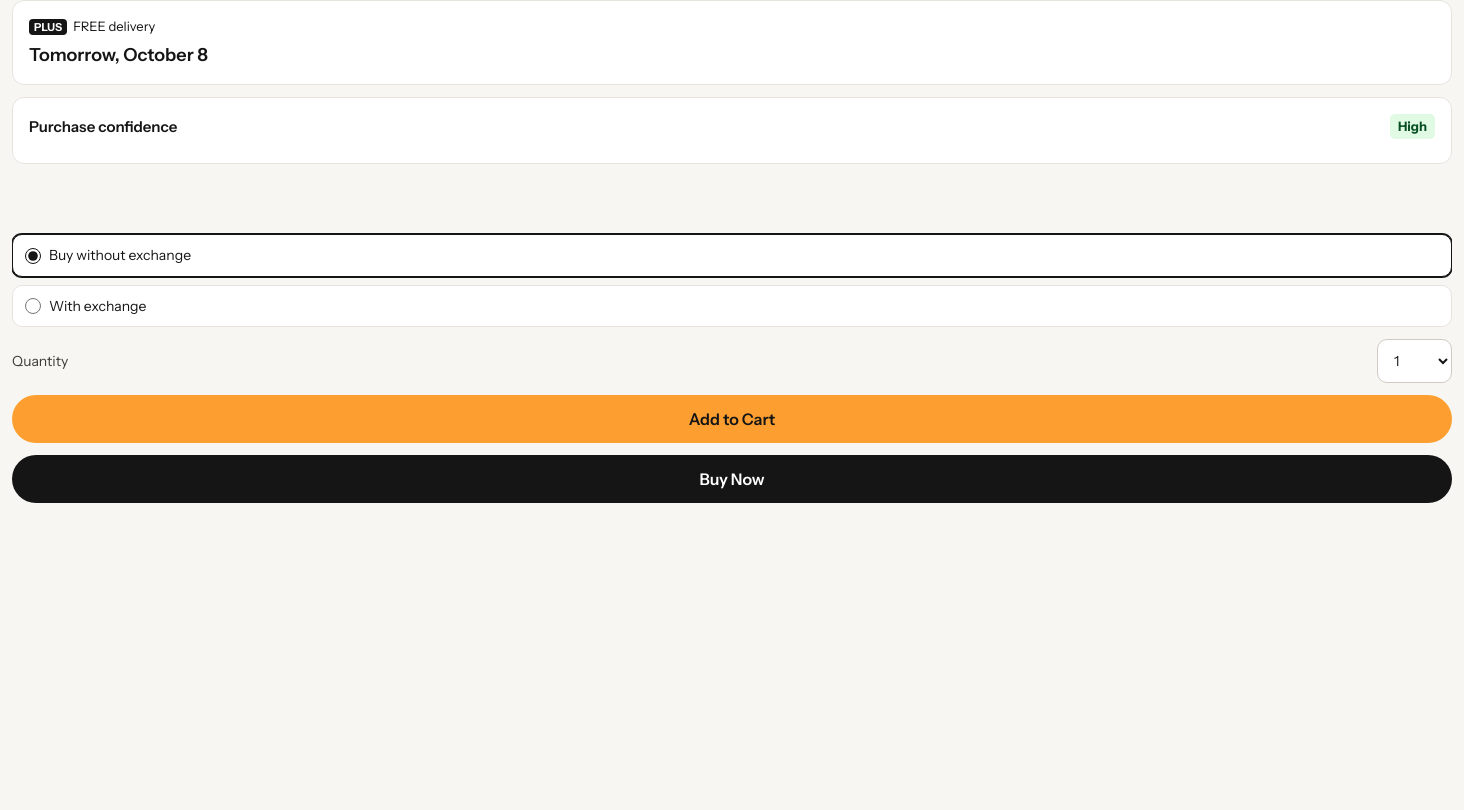
Test: trades an old phone in with Buy Now: brand, model and screen, for one unit
The image size is (1464, 810).
Expected: the button "Add to Cart" is shown, [12,395,1452,443]
Click the radio button labelled "With exchange Up to ₹26,000 off" at {"x": 33, "y": 306}, box [25,298,41,314]
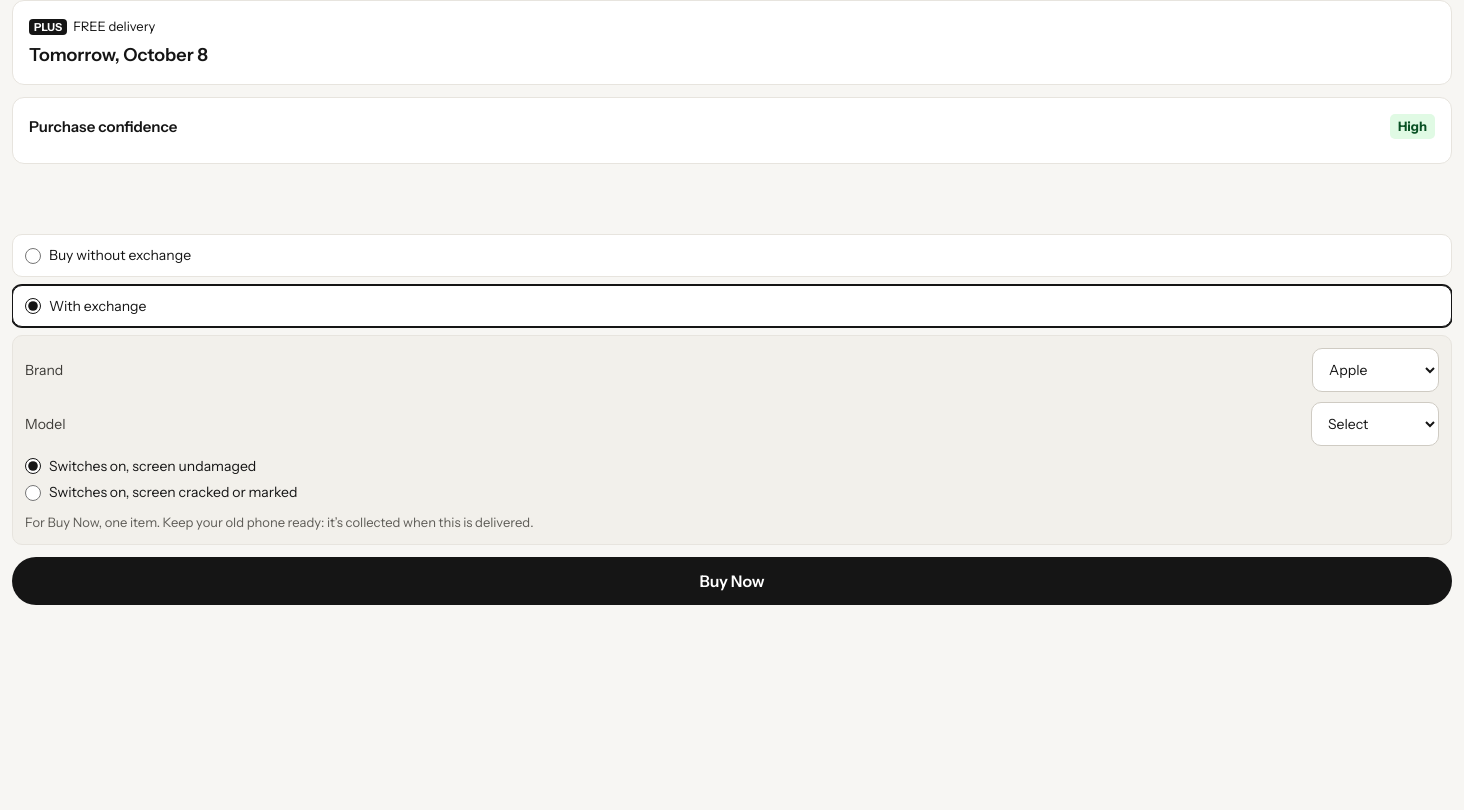
Result: the button "Add to Cart" is gone
# no model yet: Buy Now asks for one
Submit the form named "Buy Now", box [12,208,1452,604]
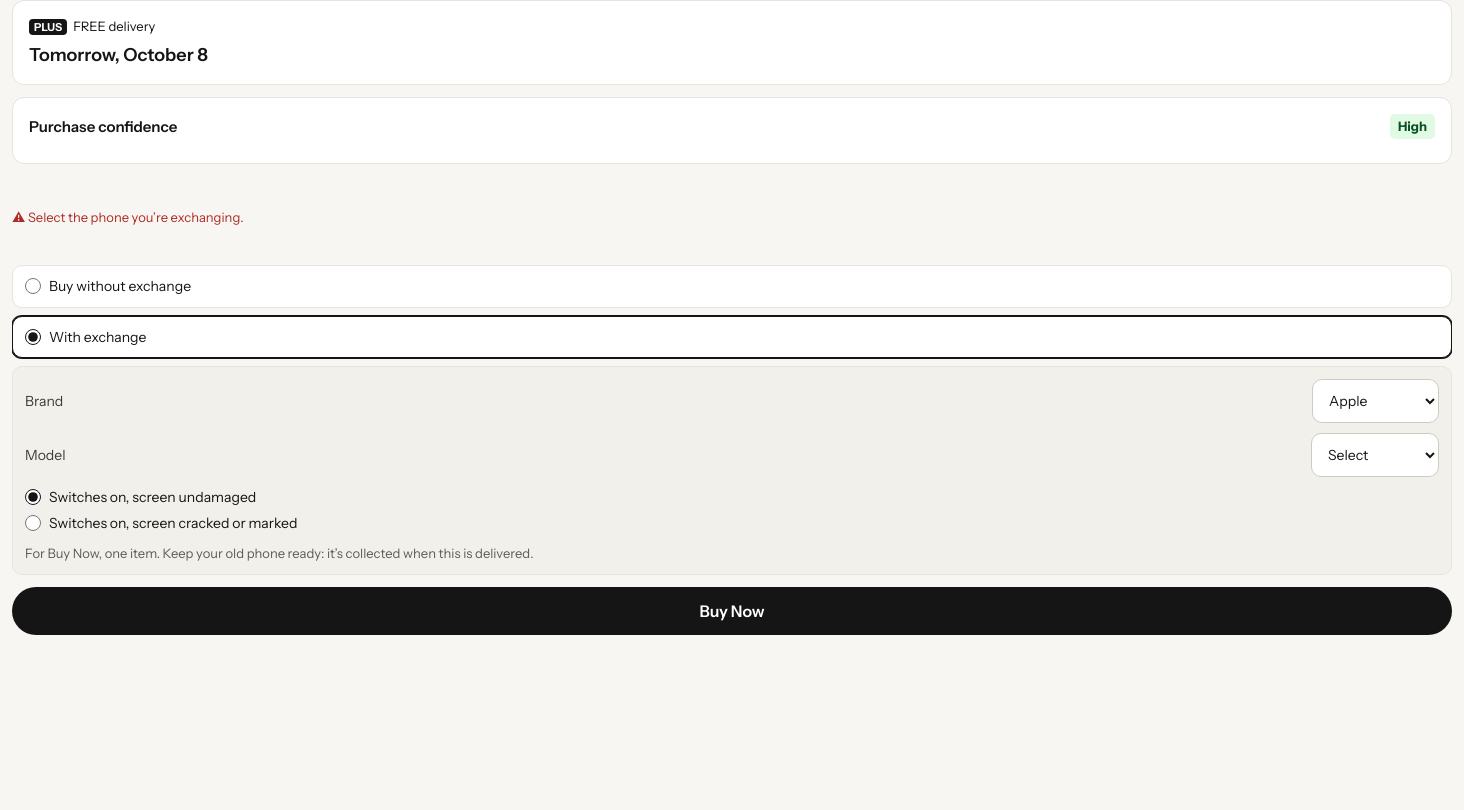
Result: the message shows "Select the phone you’re exchanging." at [28,209,244,225]
Select "Samsung" in the dropdown labelled "Brand" at {"x": 1376, "y": 401}, box [1312,379,1439,423]
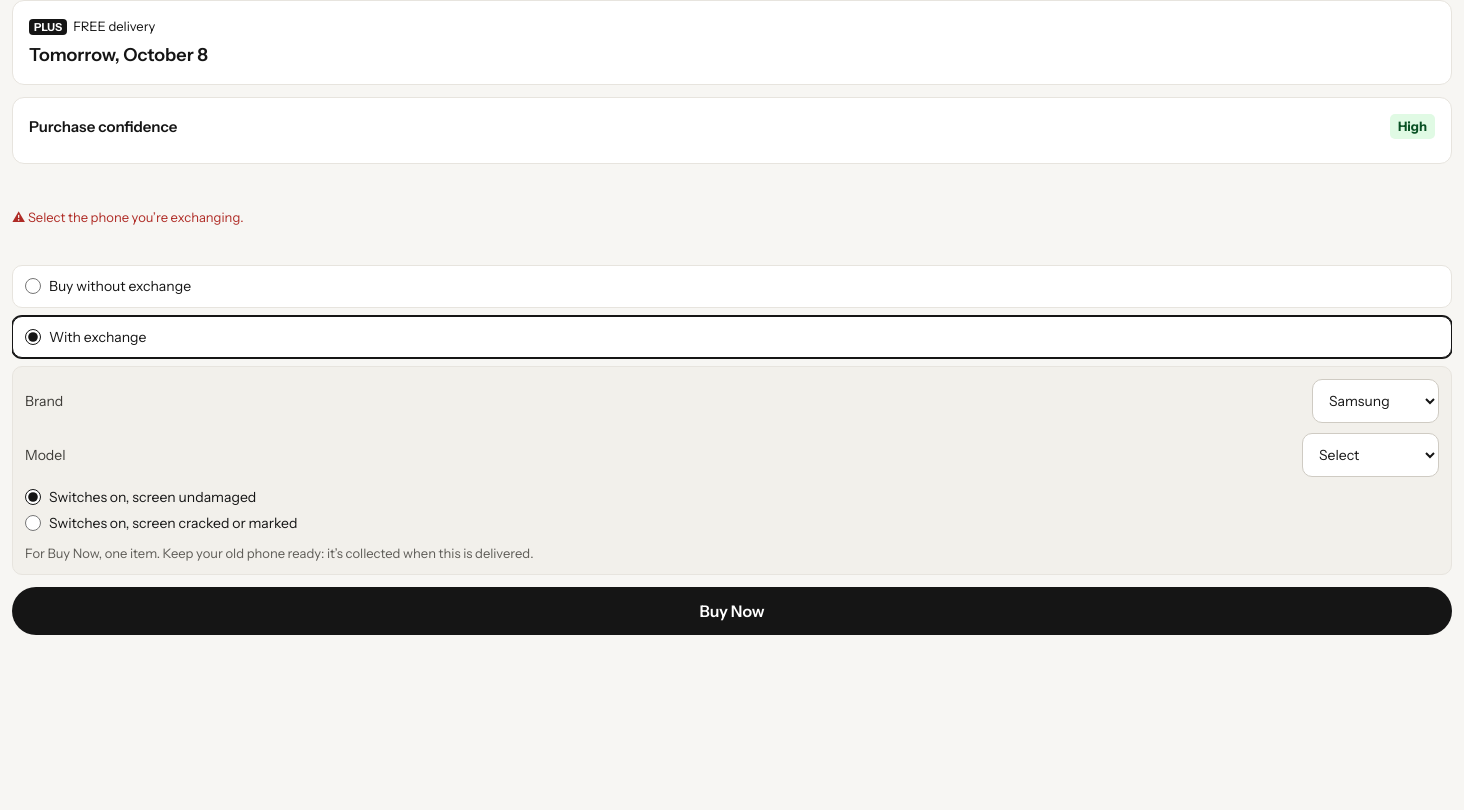
Select "Galaxy S23" in the dropdown labelled "Model" at {"x": 1370, "y": 455}, box [1302,433,1439,477]
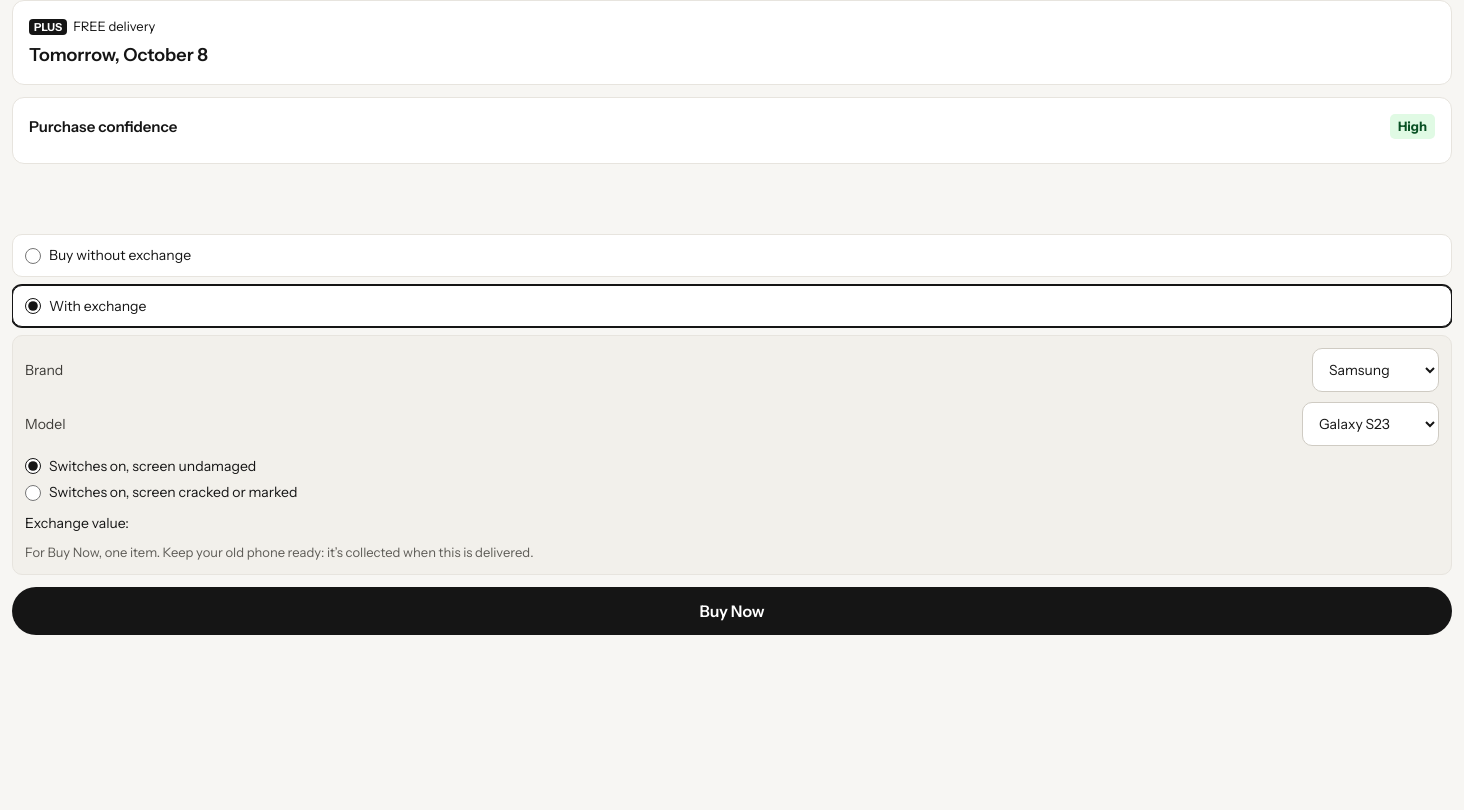
Result: the text "Exchange value: −₹24,000" is shown at [25,514,195,532]
Click the radio button labelled "Switches on, screen cracked or marked" at {"x": 33, "y": 492}, box [25,484,41,500]
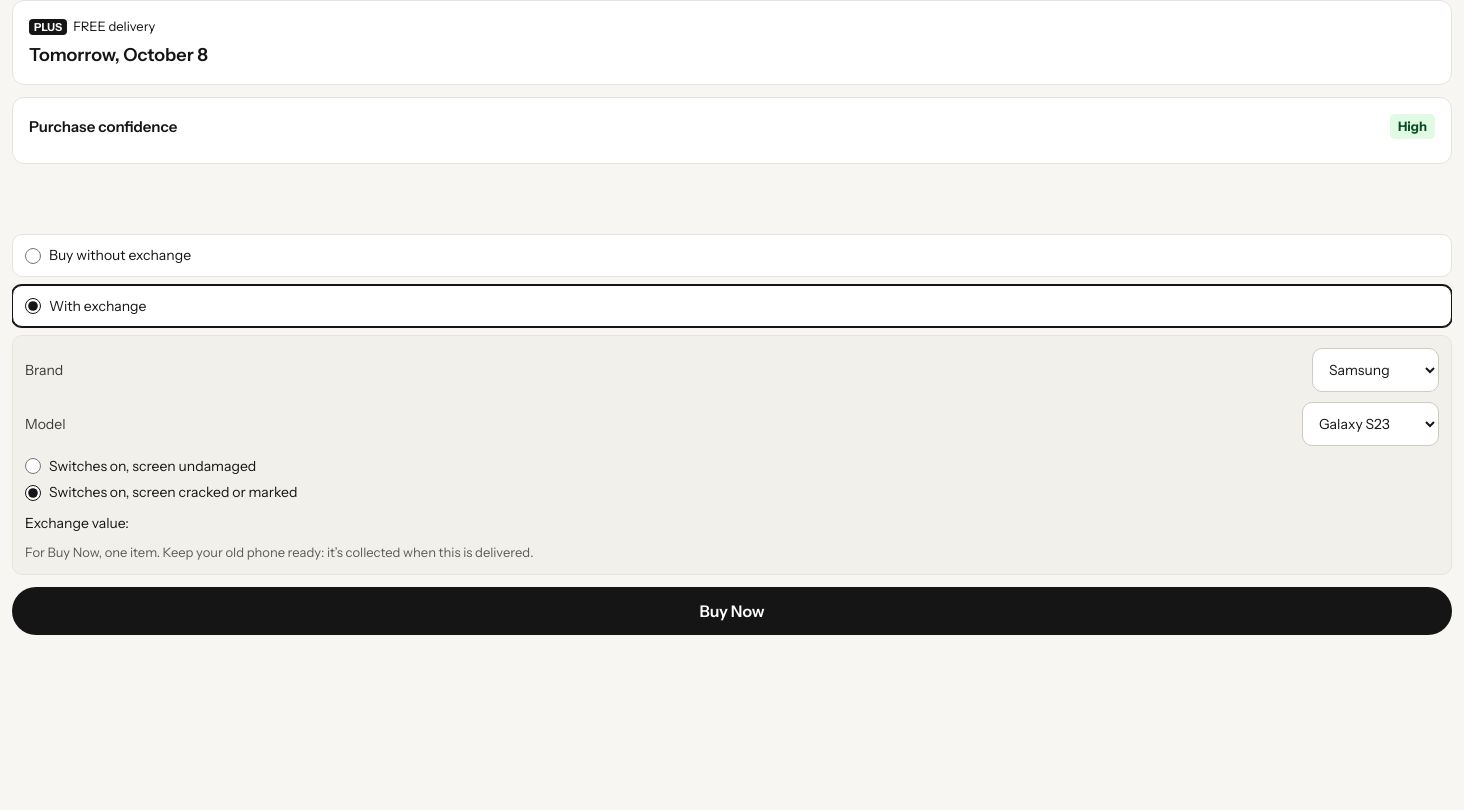
Expected: the text "Exchange value: −₹12,000" is shown, [25,514,192,532]
Click the radio button labelled "Buy without exchange" at {"x": 33, "y": 256}, box [25,248,41,264]
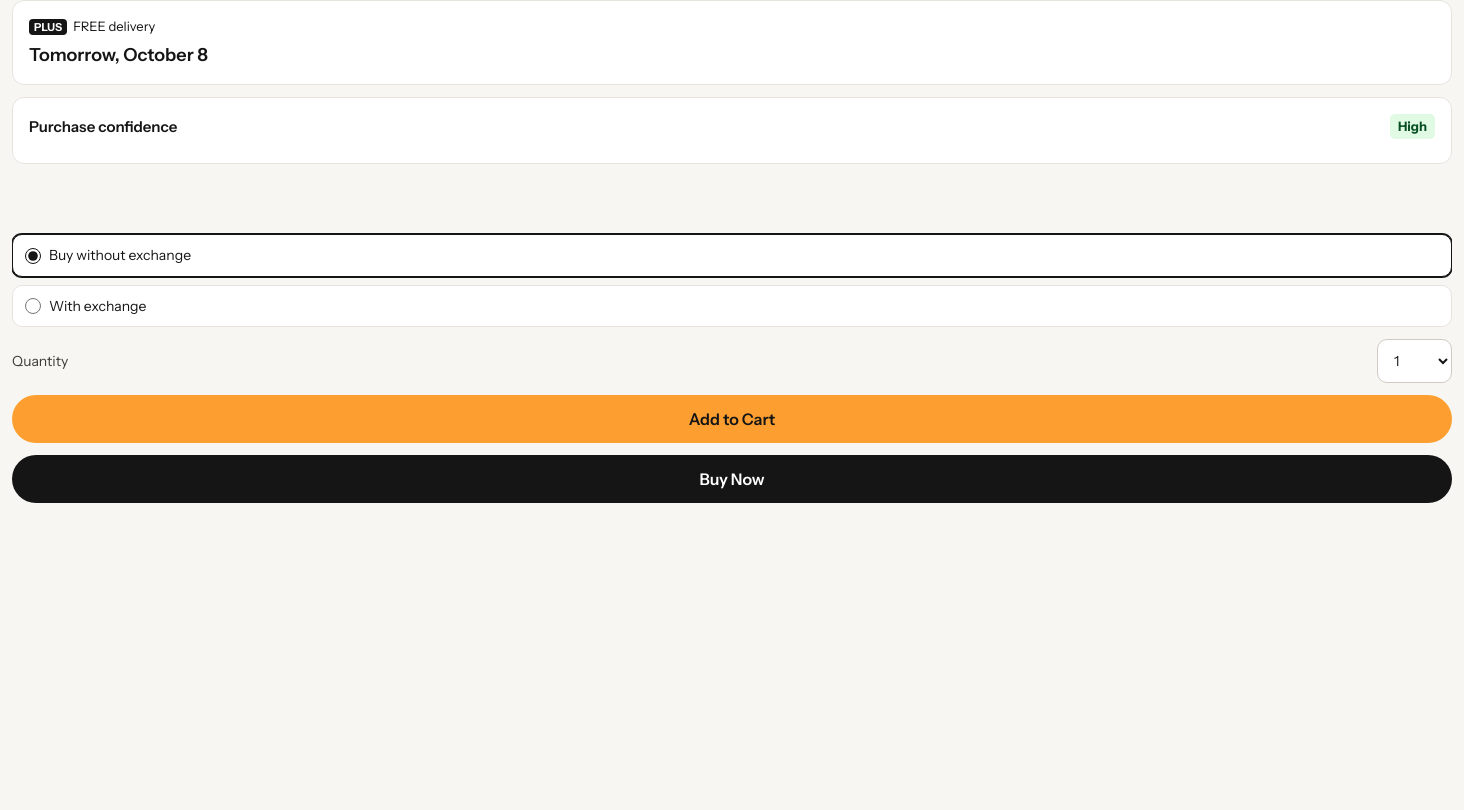
Result: the button "Add to Cart" is shown at [12,395,1452,443]
